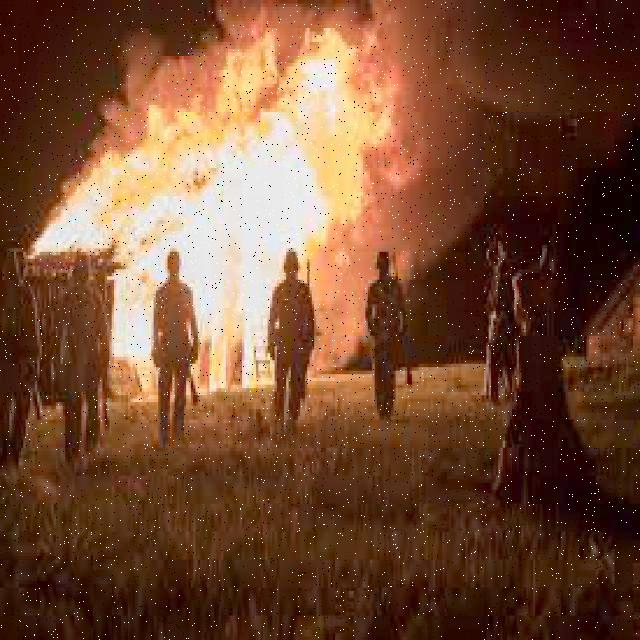fire: (66, 25, 384, 350)
